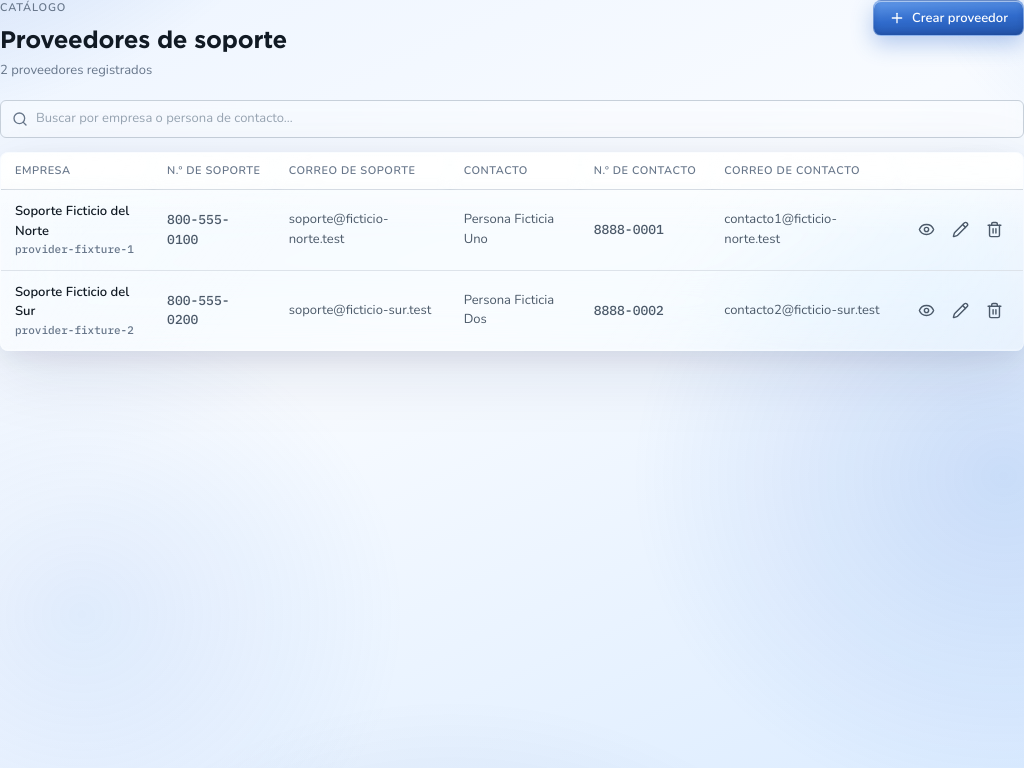
it: Providers › ADMIN ve "Crear proveedor" y puede abrir el formulario
expect the text "Soporte Ficticio del Norte" is shown: met, box [15,202,139,241]
What coordinates should you click on to do the following:
click the button "Crear proveedor"
I would click on:
 (948, 18)
Its box is [873,0,1023,36].
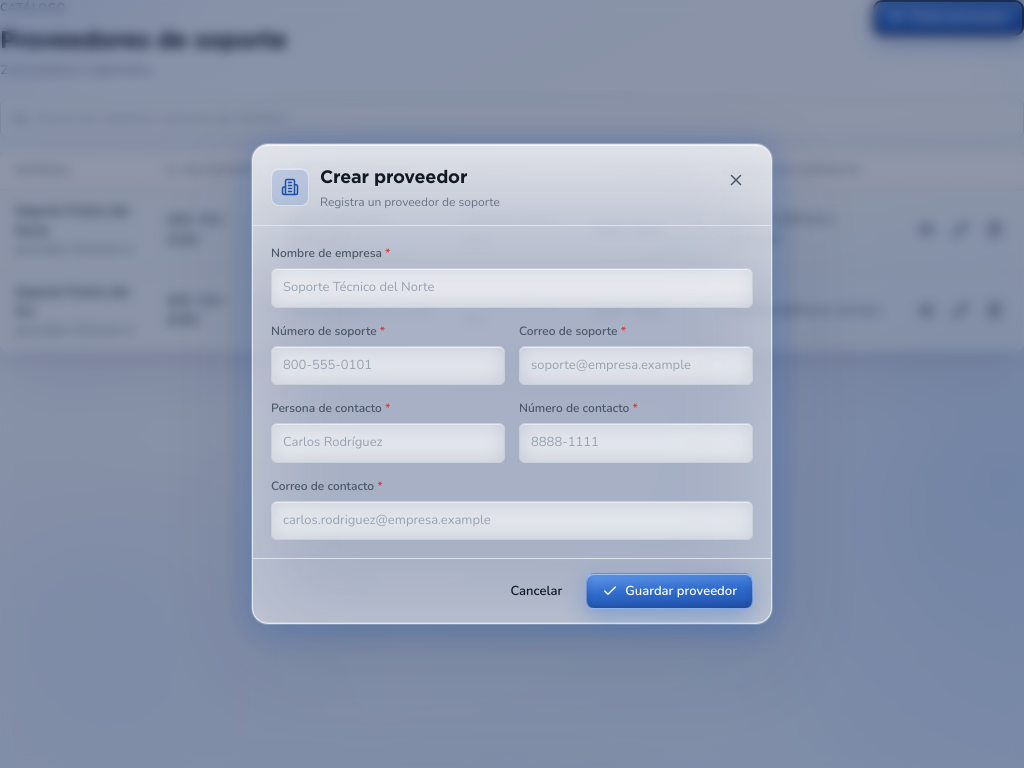
expect the dialog is shown: met, box [252,144,772,624]
